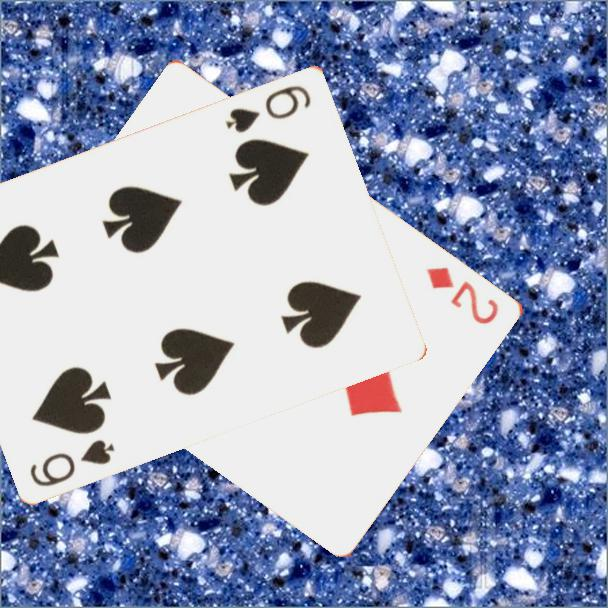d02: (423, 263, 503, 328)
s06: (221, 81, 314, 135), (26, 435, 118, 489)
